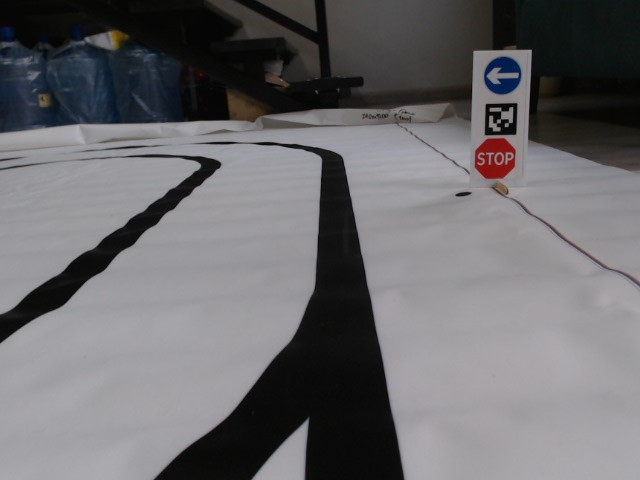Stop: (474, 137, 517, 178)
